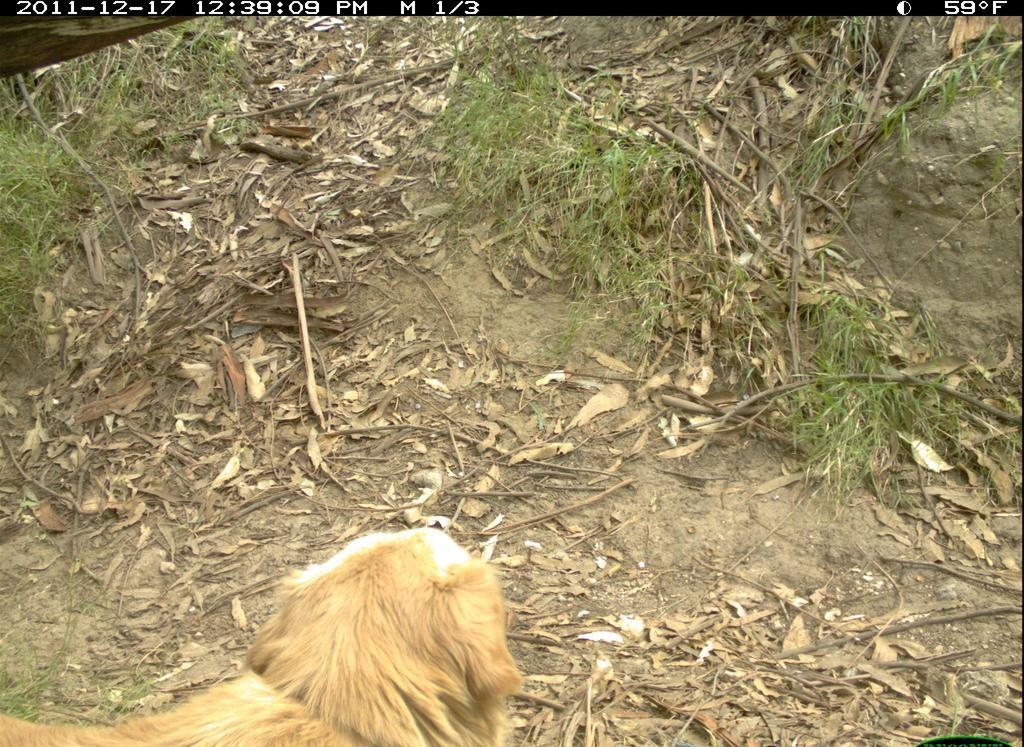dog: (3, 518, 524, 745)
